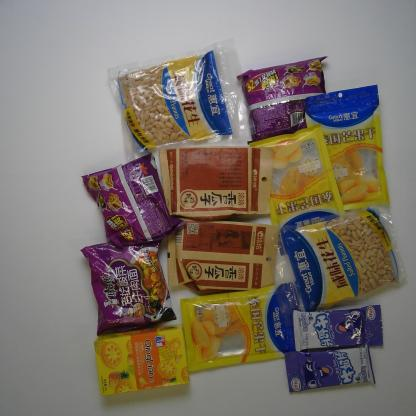Candy: (284, 342, 376, 393), (292, 304, 385, 352)
Dessert: (91, 324, 192, 396)
Dried Food: (165, 216, 280, 296), (159, 145, 275, 222)
Dried Fruit: (104, 37, 257, 162), (261, 204, 411, 312), (247, 122, 347, 258), (179, 281, 307, 372), (304, 84, 390, 211)
Instant Noodles: (81, 151, 186, 248), (80, 237, 178, 337), (237, 55, 330, 145)
